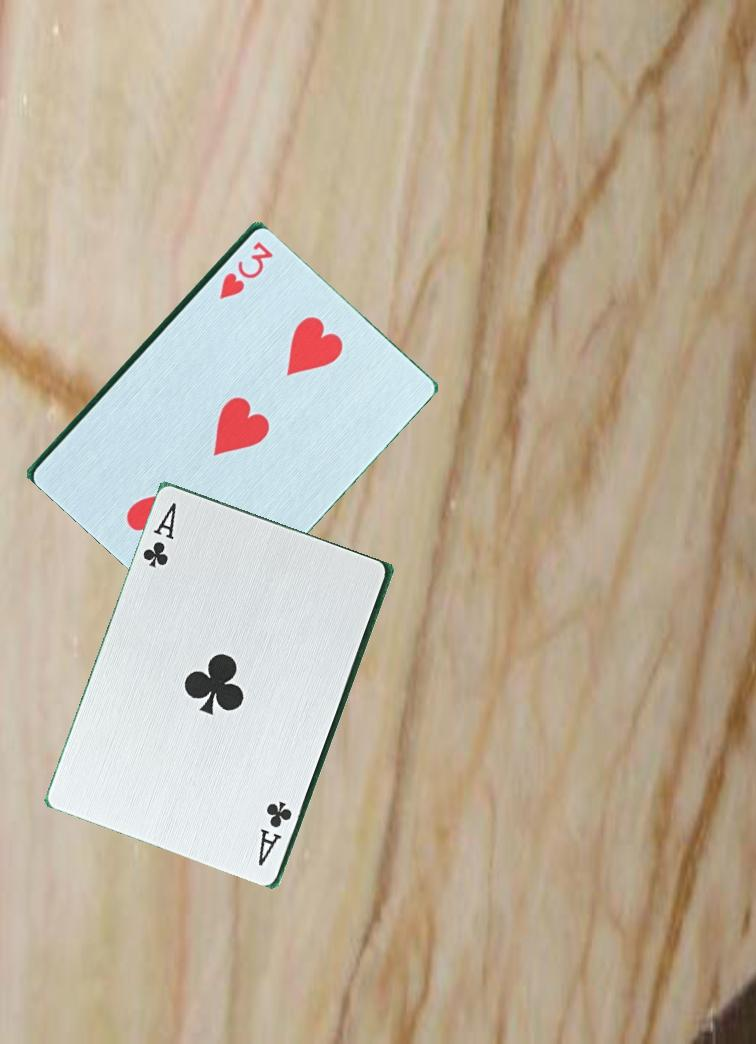3h: (215, 237, 275, 302)
ac: (254, 798, 296, 870), (139, 499, 180, 571)
